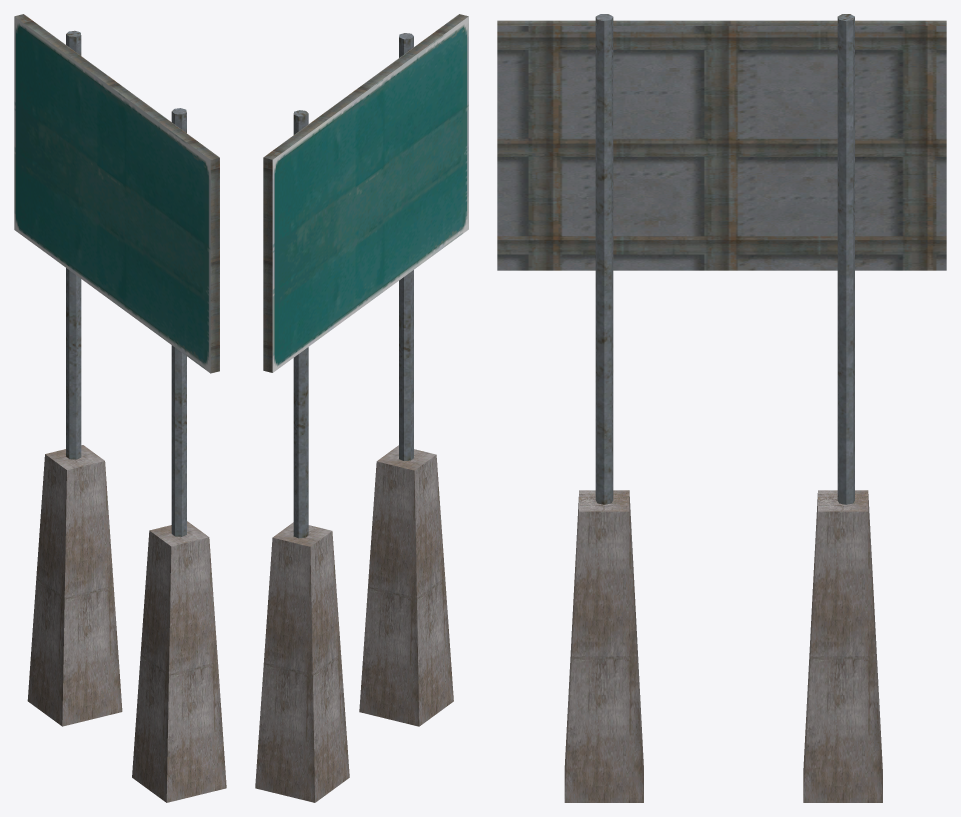
File: cxrf_desertsig.obj
3 renders of one model, left to right at view 1: azimuth 30°, elevation 25°; view 2: azimuth 150°, elevation 25°; view 3: azimuth 270°, elevation 25°, orthographic. The views are drawn at different scales.
Parts seen in each view (by area): view 1: cxrf_desertsig; view 2: cxrf_desertsig; view 3: cxrf_desertsig.
Part boxes in pixels (x1,y1,x2,y2): cxrf_desertsig: [14, 14, 226, 802]; cxrf_desertsig: [255, 14, 468, 802]; cxrf_desertsig: [497, 14, 946, 802].
Bounding box in the file's own units: 0.4416 × 4.72 × 2.5.
